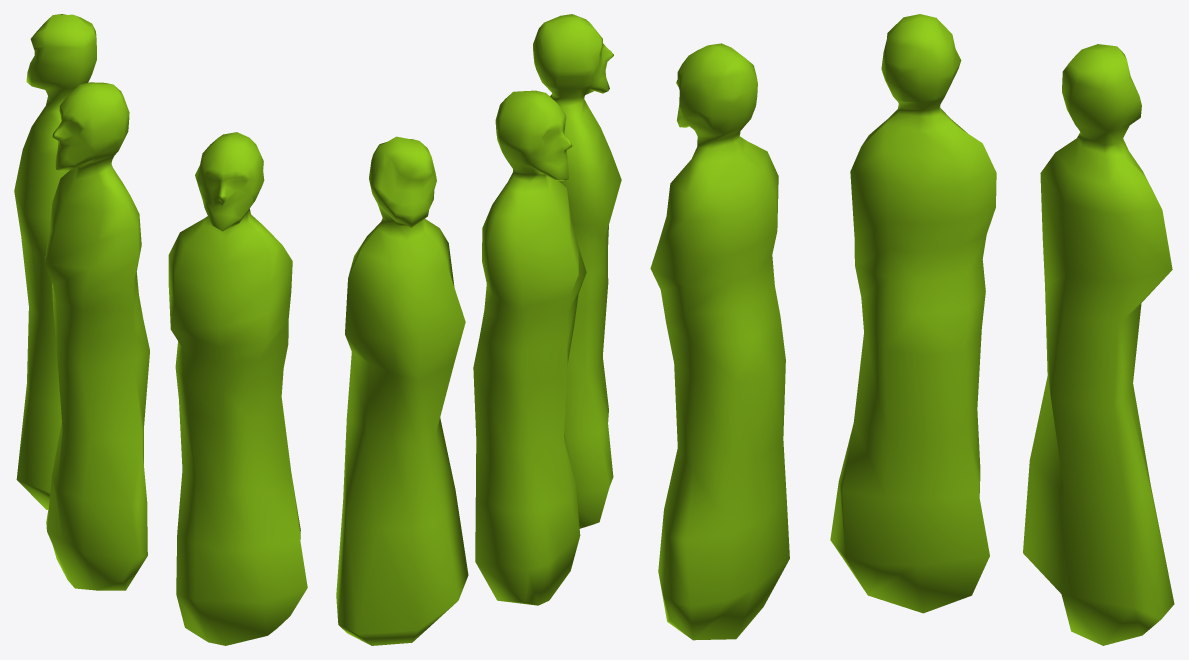
The model's file is Statues_Grp_05_Lod1.fbx.
The picture shows the model from 3 angles, left to right: view 1: azimuth 30°, elevation 25°; view 2: azimuth 150°, elevation 25°; view 3: azimuth 270°, elevation 25°; orthographic projection. The views are drawn at different scales.
Visible parts, largest first — view 1: Statues_Grp_05_Lod1; view 2: Statues_Grp_05_Lod1; view 3: Statues_Grp_05_Lod1.
Part boxes in pixels (x1,y1,x2,y2): Statues_Grp_05_Lod1: (14, 14, 307, 645); Statues_Grp_05_Lod1: (336, 14, 621, 645); Statues_Grp_05_Lod1: (650, 14, 1174, 645).
Bounding box in the file's own units: 66.9 × 209 × 169.
